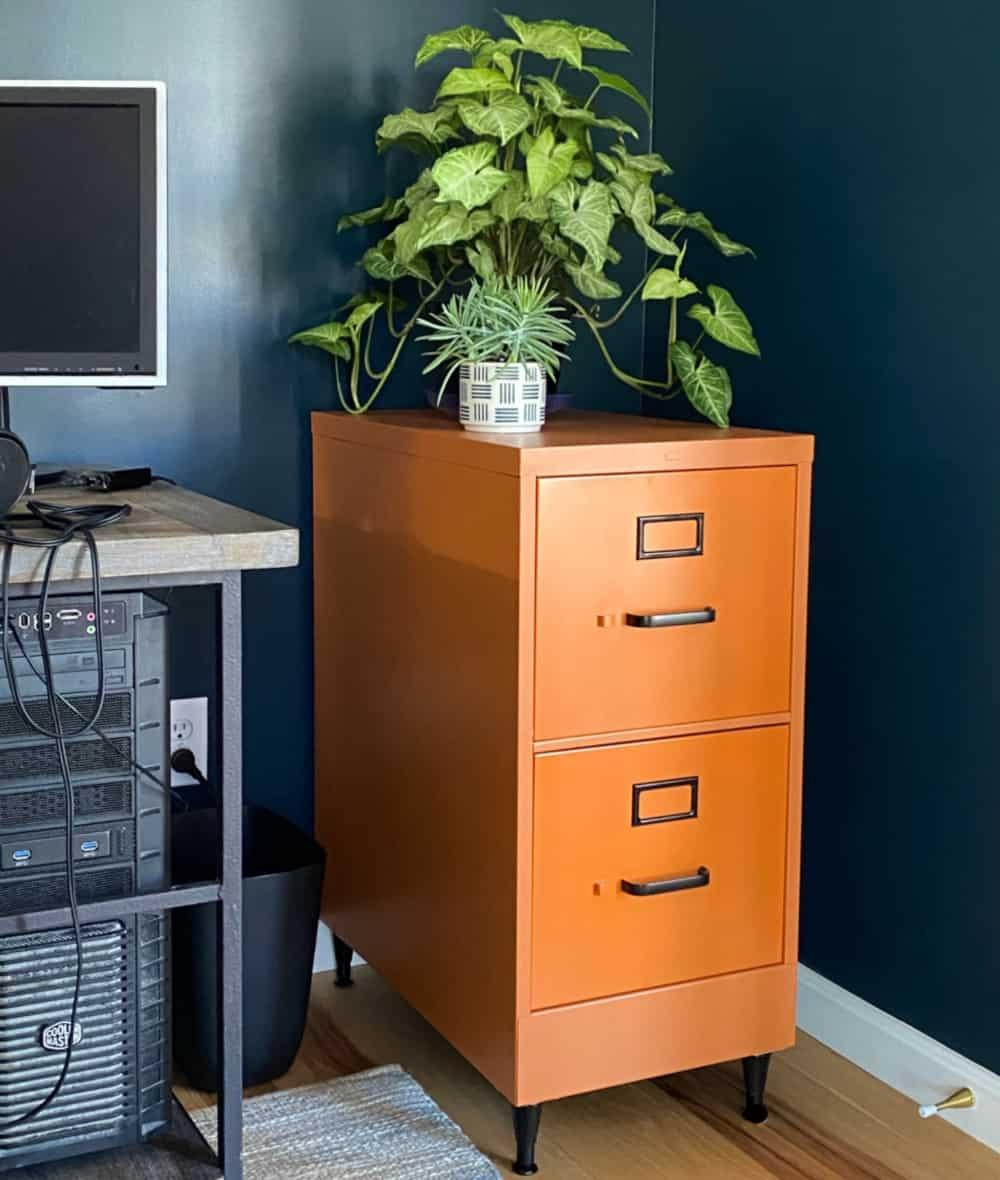AIO PC-Monitor-TV: (0, 77, 168, 390)
Filing Cabinet: (514, 433, 814, 1103)
